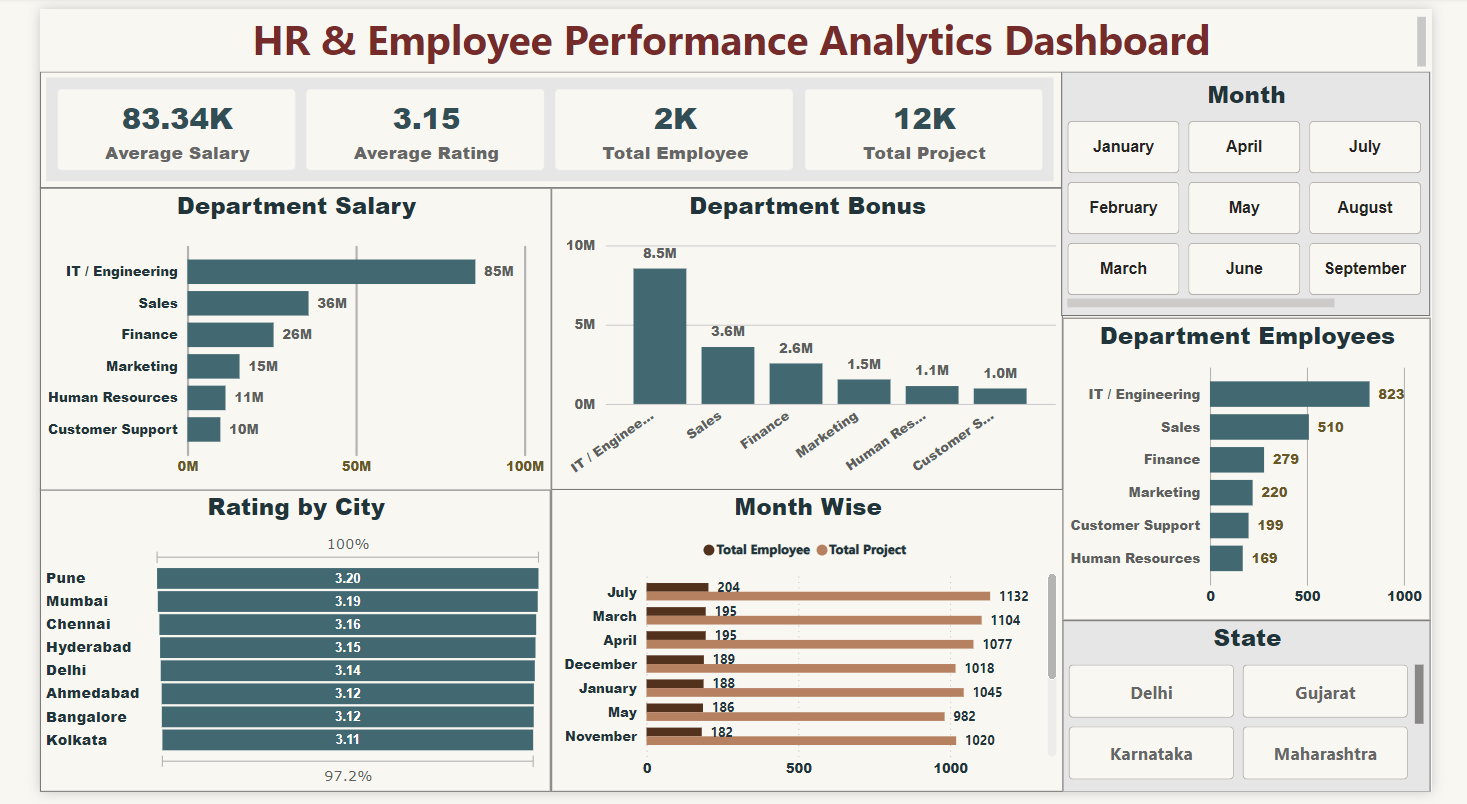

Layout of this report page (visuals, bound fields, positions):
{"tool":"powerbi","page":{"name":"Page 1","canvas":[1280,720],"ordinal":0},"visuals":[{"type":"funnel","title":"Rating by City","fields":{"Category":["hr_analytics_db hr_employee_data.City"],"Y":["hr_analytics_db hr_employee_data.Average Rating"]},"box":[0,441.9,469.8,278],"z":0},{"type":"columnChart","title":"Department Bonus","fields":{"Category":["hr_analytics_db hr_employee_data.Department"],"Y":["Sum(hr_analytics_db hr_employee_data.Bonus)"]},"box":[469.8,164,470,278],"z":1000},{"type":"clusteredBarChart","title":"Month Wise","fields":{"Y":["hr_analytics_db hr_employee_data.Total Employee","hr_analytics_db hr_employee_data.Total Project"],"Category":["hr_analytics_db hr_employee_data.Month Name"]},"box":[469.8,441.9,470.9,278],"z":2000},{"type":"barChart","title":"Department Salary","fields":{"Y":["Sum(hr_analytics_db hr_employee_data.Salary)"],"Category":["hr_analytics_db hr_employee_data.Department"]},"box":[0,164,470,278],"z":3000},{"type":"cardVisual","fields":{"Data":["hr_analytics_db hr_employee_data.Average Salary","hr_analytics_db hr_employee_data.Average Rating","hr_analytics_db hr_employee_data.Total Employee","hr_analytics_db hr_employee_data.Total Project"]},"box":[0,57.5,940.3,107],"z":4000},{"type":"advancedSlicerVisual","title":"Month","fields":{"Values":["hr_analytics_db hr_employee_data.Month Name"]},"box":[939.5,57,339.1,225],"z":5000},{"type":"barChart","title":"Department Employees","fields":{"Category":["hr_analytics_db hr_employee_data.Department"],"Y":["hr_analytics_db hr_employee_data.Total Employee"]},"box":[940.7,283.7,338.7,278],"z":6000},{"type":"advancedSlicerVisual","fields":{"Values":["hr_analytics_db hr_employee_data.State"]},"box":[940.7,561.6,338.7,158],"z":7000},{"type":"textbox","box":[0,0,1279.3,57.5],"z":8000}]}

Visuals, with their boxes in screenshot pixels (x1, y1, x2, y2), scaled from the page's 1280x720 canvas onto the 1467x804 screenshot:
"Rating by City" funnel: [0,493,538,803]
"Department Bonus" columnChart: [538,183,1077,494]
"Month Wise" clusteredBarChart: [538,493,1078,803]
"Department Salary" barChart: [0,183,539,494]
cardVisual - hr_analytics_db hr_employee_data.Average Salary x hr_analytics_db hr_employee_data.Average Rating: [0,64,1078,184]
"Month" advancedSlicerVisual: [1077,64,1465,315]
"Department Employees" barChart: [1078,317,1466,627]
advancedSlicerVisual - hr_analytics_db hr_employee_data.State: [1078,627,1466,803]
textbox: [0,0,1466,64]
